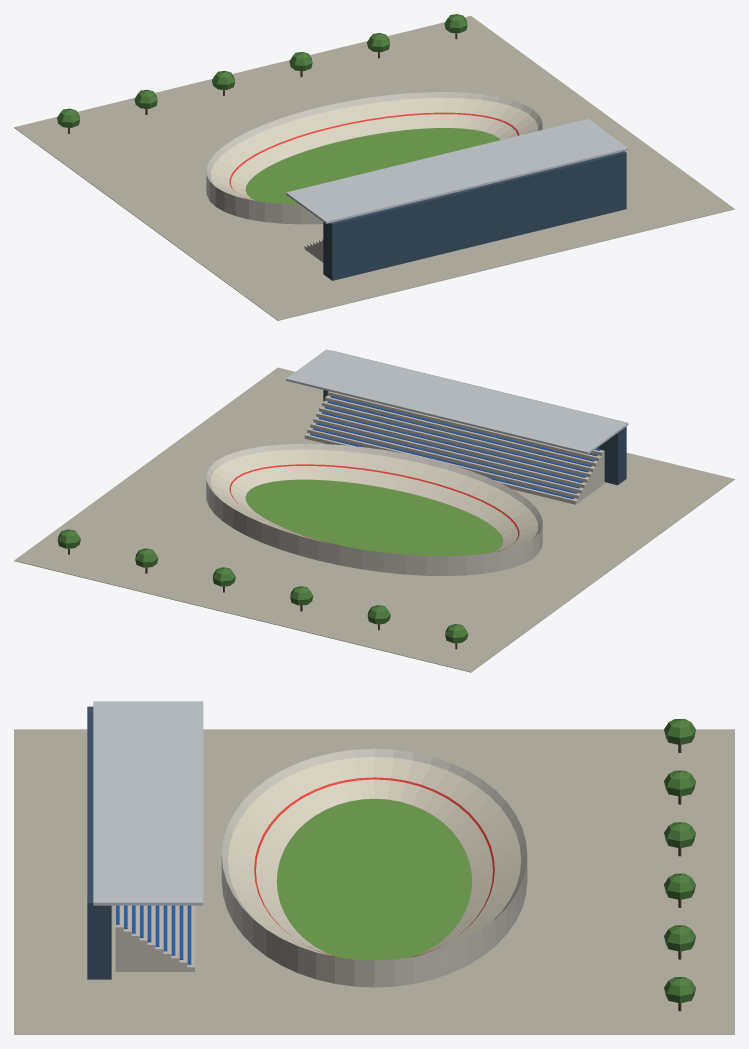
The model's file is keirin.glb.
3 views of the same model, one above another, from view 1: azimuth 30°, elevation 25°; view 2: azimuth 150°, elevation 25°; view 3: azimuth 270°, elevation 25° (orthographic). The views are drawn at different scales.
Visible parts, largest first — view 1: Keirin_static; view 2: Keirin_static; view 3: Keirin_static.
Part boxes in pixels (x1,y1,x2,y2): Keirin_static: (14, 14, 734, 320); Keirin_static: (14, 349, 734, 672); Keirin_static: (14, 701, 734, 1034).
Bounding box in the file's own units: 118 × 14.5 × 118.
